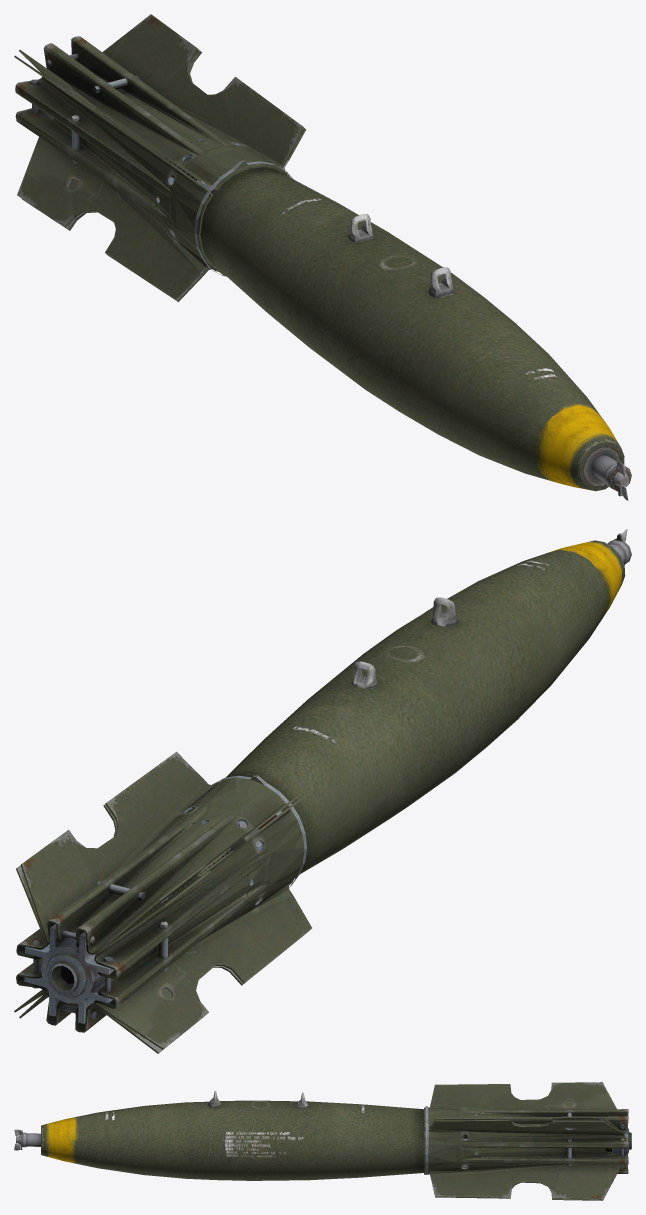
3 views of the same model, one above another, from view 1: azimuth 30°, elevation 25°; view 2: azimuth 150°, elevation 25°; view 3: azimuth 270°, elevation 25° (orthographic). The views are drawn at different scales.
Visible parts, largest first — view 1: Body; view 2: Body; view 3: Body.
Boxes of the visible parts, bbox=[...] form: Body: bbox=[14, 14, 631, 500]; Body: bbox=[14, 529, 631, 1053]; Body: bbox=[14, 1082, 631, 1200].
Bounding box in the file's own units: 0.3398 × 0.374 × 2.24.
